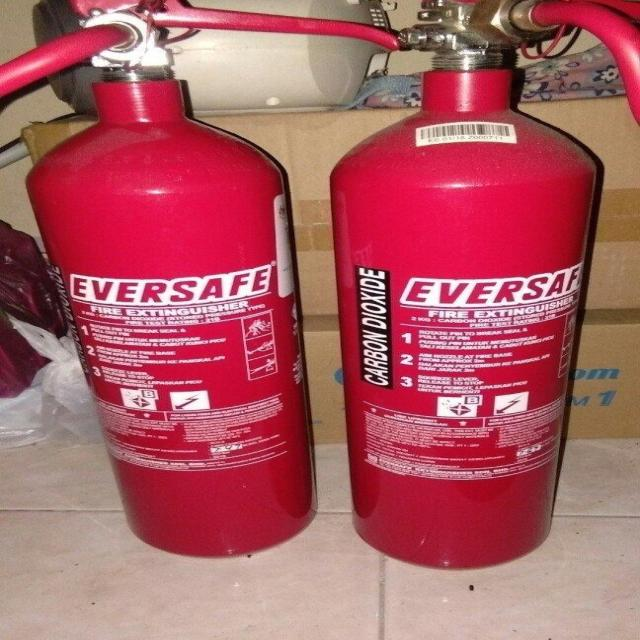fire_extinguisher: (1, 0, 404, 564), (316, 0, 639, 575)
